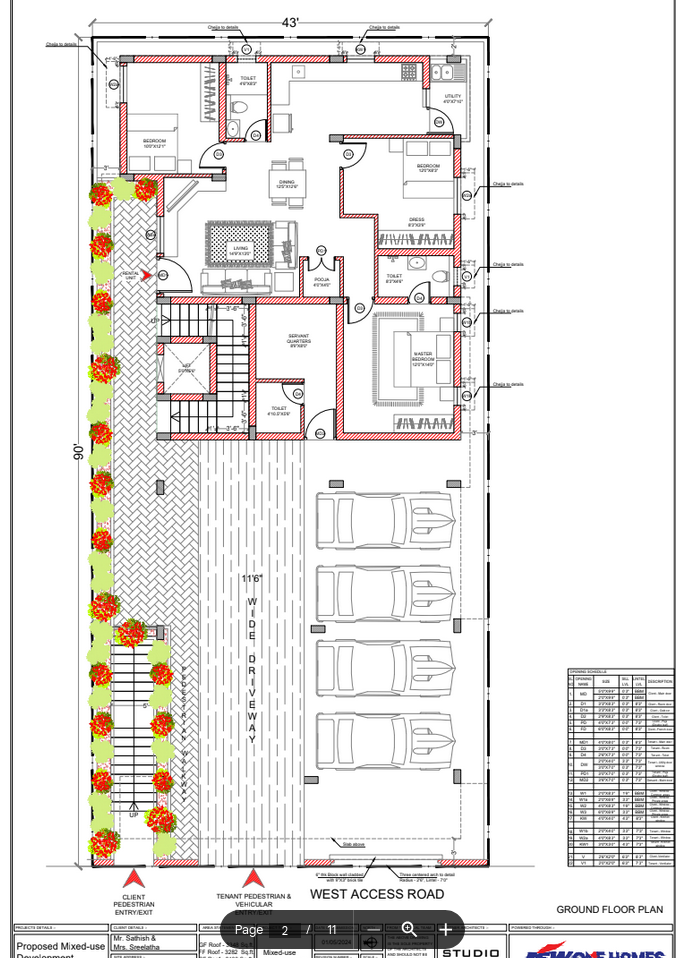door: (157, 257, 194, 293), (305, 408, 336, 439), (341, 141, 368, 172), (347, 298, 375, 326), (427, 106, 454, 135), (198, 141, 224, 170), (281, 382, 303, 407), (244, 119, 268, 141), (408, 281, 431, 302), (321, 258, 337, 273), (307, 257, 321, 272)
